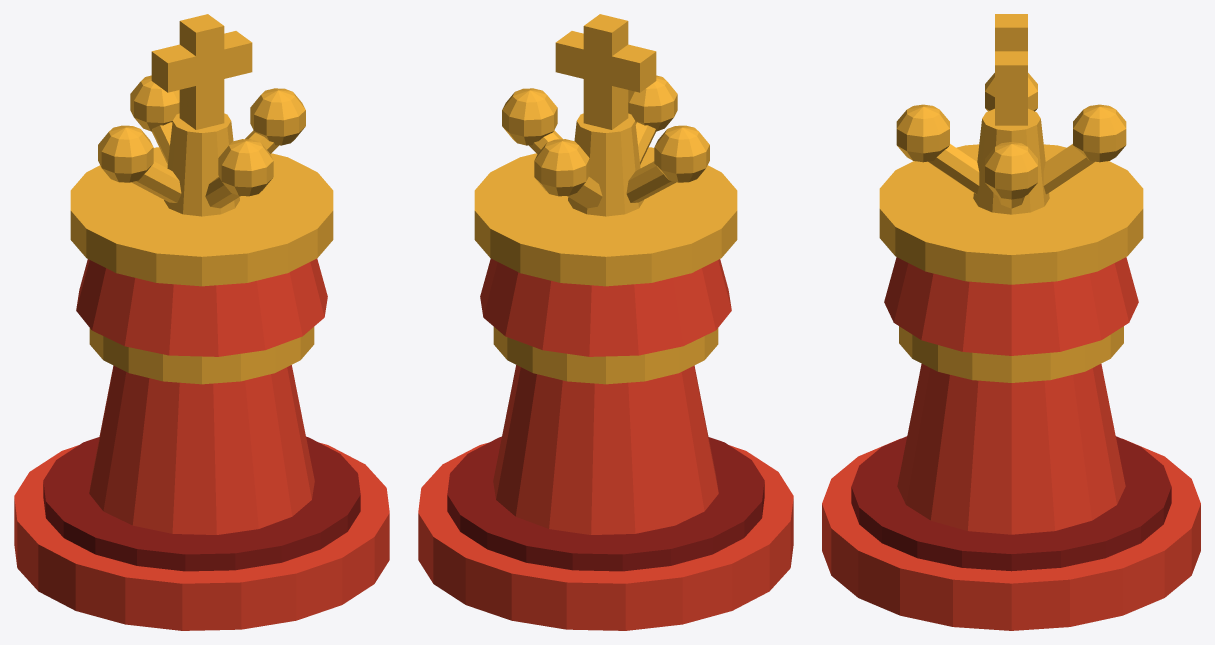
The model's file is king_red.glb.
3 views of the same model, side by side, from view 1: azimuth 30°, elevation 25°; view 2: azimuth 150°, elevation 25°; view 3: azimuth 270°, elevation 25° (orthographic).
Visible parts, largest first — view 1: king_red_Body, king_red_Base_Main, king_red_Crown_Band, king_red_Base_Rim, king_red_Crown_Bowl, king_red, king_red_Waist_Ring, king_red_Crown_Core, king_red_Cross_Vertical, king_red_Cross_Horizontal; view 2: king_red_Body, king_red_Base_Main, king_red_Crown_Band, king_red_Base_Rim, king_red_Crown_Bowl, king_red, king_red_Waist_Ring, king_red_Crown_Core, king_red_Cross_Vertical, king_red_Cross_Horizontal; view 3: king_red_Body, king_red_Base_Main, king_red_Crown_Band, king_red_Base_Rim, king_red_Crown_Bowl, king_red, king_red_Waist_Ring, king_red_Crown_Core, king_red_Cross_Vertical, king_red_Cross_Horizontal.
Part boxes in pixels (left/top/right/bottom): king_red_Body: left=89, top=365, right=314, bottom=534; king_red_Base_Main: left=14, top=442, right=389, bottom=630; king_red_Crown_Band: left=70, top=147, right=333, bottom=286; king_red_Base_Rim: left=43, top=436, right=360, bottom=571; king_red_Crown_Bowl: left=76, top=258, right=327, bottom=356; king_red: left=98, top=75, right=305, bottom=208; king_red_Waist_Ring: left=89, top=327, right=314, bottom=384; king_red_Crown_Core: left=164, top=113, right=239, bottom=216; king_red_Cross_Vertical: left=179, top=14, right=224, bottom=129; king_red_Cross_Horizontal: left=151, top=31, right=252, bottom=92; king_red_Body: left=493, top=365, right=718, bottom=534; king_red_Base_Main: left=418, top=442, right=793, bottom=630; king_red_Crown_Band: left=474, top=147, right=737, bottom=286; king_red_Base_Rim: left=447, top=436, right=764, bottom=571; king_red_Crown_Bowl: left=480, top=258, right=731, bottom=356; king_red: left=502, top=75, right=709, bottom=208; king_red_Waist_Ring: left=493, top=327, right=718, bottom=384; king_red_Crown_Core: left=568, top=113, right=643, bottom=216; king_red_Cross_Vertical: left=583, top=14, right=628, bottom=129; king_red_Cross_Horizontal: left=555, top=31, right=656, bottom=92; king_red_Body: left=897, top=364, right=1125, bottom=534; king_red_Base_Main: left=822, top=438, right=1200, bottom=630; king_red_Crown_Band: left=879, top=144, right=1143, bottom=284; king_red_Base_Rim: left=851, top=436, right=1171, bottom=571; king_red_Crown_Bowl: left=884, top=257, right=1138, bottom=355; king_red: left=896, top=73, right=1126, bottom=208; king_red_Waist_Ring: left=899, top=326, right=1123, bottom=382; king_red_Crown_Core: left=973, top=108, right=1049, bottom=214; king_red_Cross_Vertical: left=995, top=14, right=1027, bottom=125; king_red_Cross_Horizontal: left=995, top=51, right=1027, bottom=94.
Bounding box in the file's own units: 1.16 × 1.79 × 1.16.
